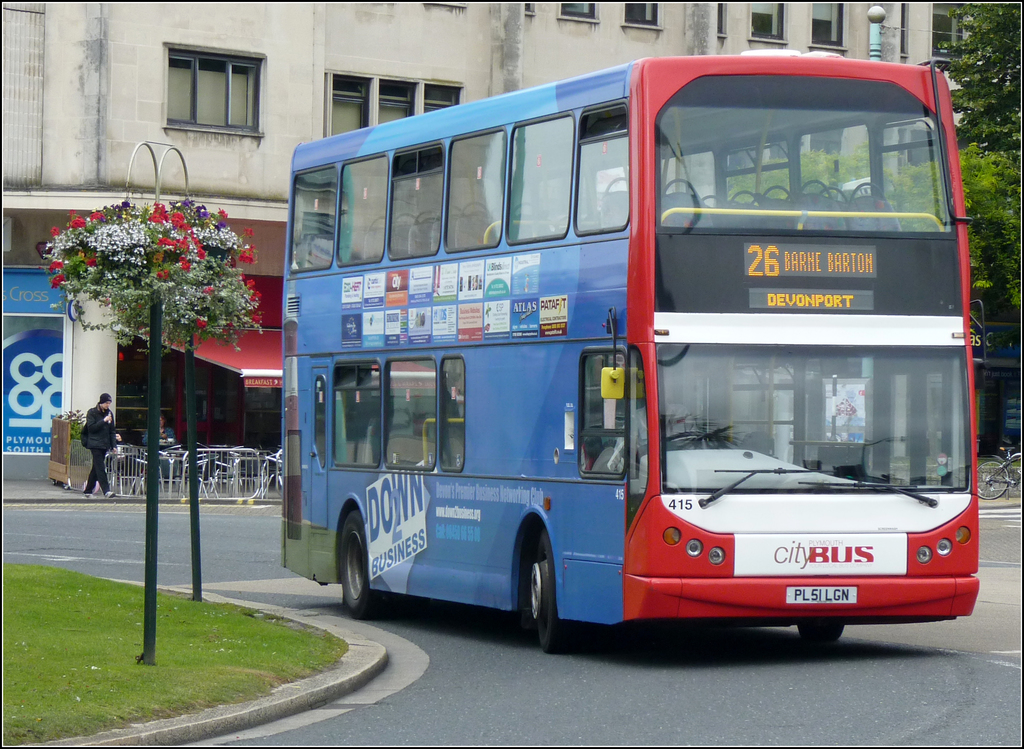Bus: (275, 47, 985, 658)
